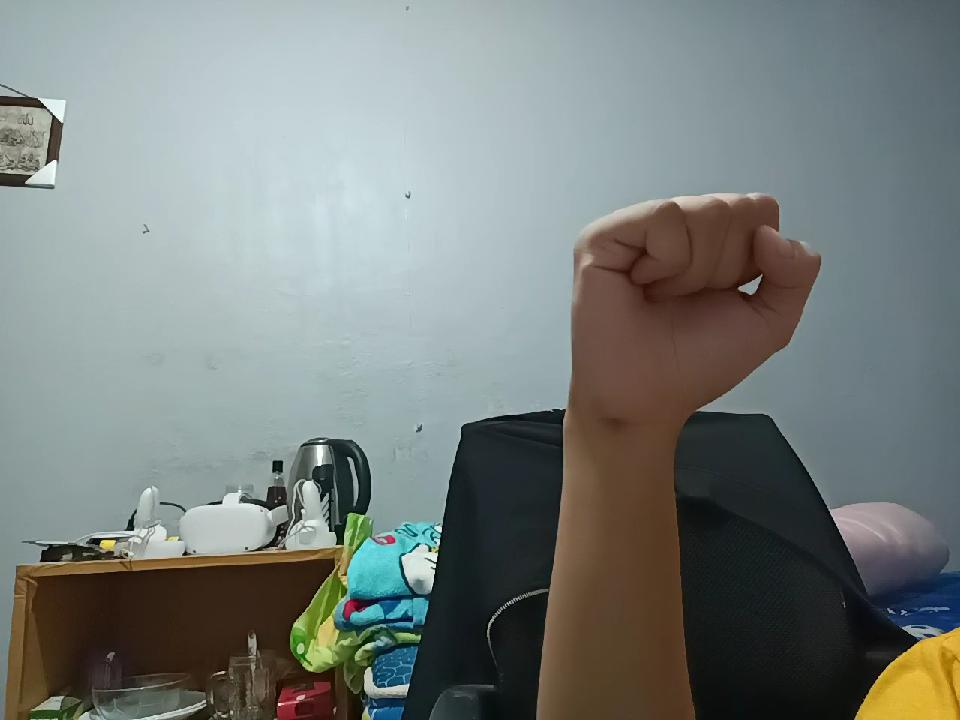rock: (578, 173, 816, 427)
